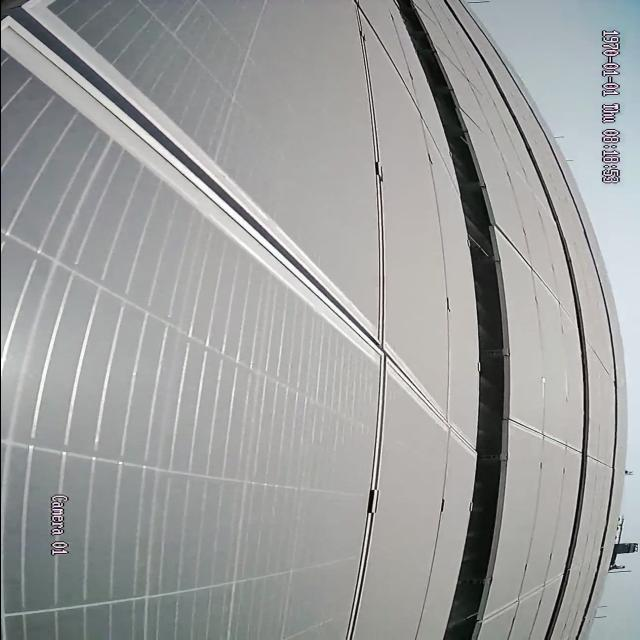interior panel: (8, 0, 473, 640), (504, 229, 564, 317), (496, 572, 553, 620), (517, 417, 576, 457)
outher panel: (398, 0, 511, 637)
